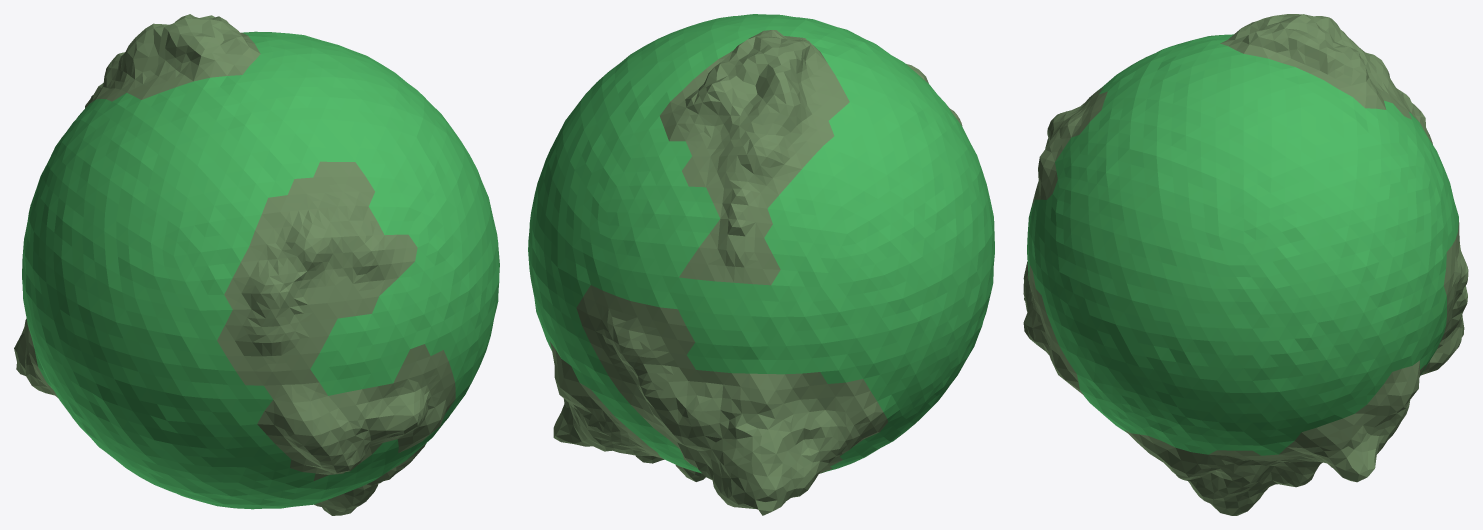
File: low.poly.world.001.fbx
The picture shows the model from 3 angles, left to right: view 1: azimuth 30°, elevation 25°; view 2: azimuth 150°, elevation 25°; view 3: azimuth 270°, elevation 25°; orthographic projection. The views are drawn at different scales.
Visible parts, largest first — view 1: world.001; view 2: world.001; view 3: world.001.
Part boxes in pixels (x1,y1,x2,y2): world.001: (14, 14, 499, 515); world.001: (528, 14, 994, 515); world.001: (1023, 14, 1468, 515).
Size of the model in its own units: 1994 by 2286 by 2051.
